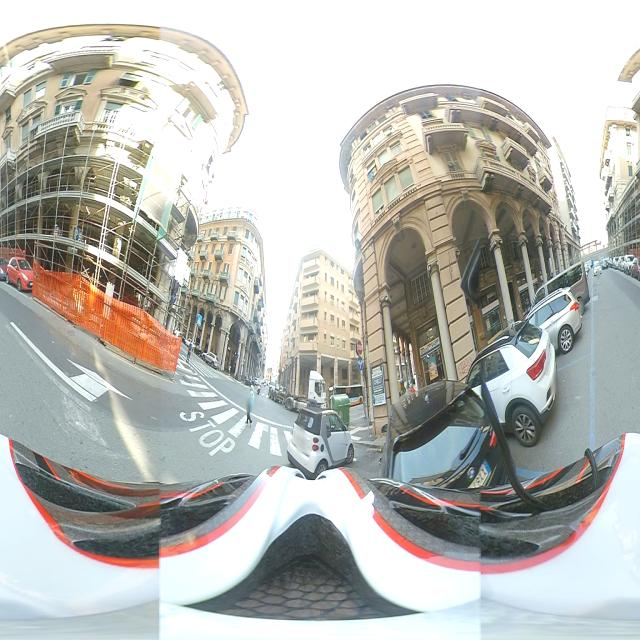car: (461, 318, 558, 448), (288, 407, 356, 471), (530, 288, 584, 355), (6, 256, 35, 291), (630, 254, 640, 279), (0, 256, 9, 282), (623, 253, 634, 274), (276, 387, 286, 404), (592, 259, 601, 275), (270, 383, 278, 401), (616, 254, 624, 271), (601, 257, 608, 269)
